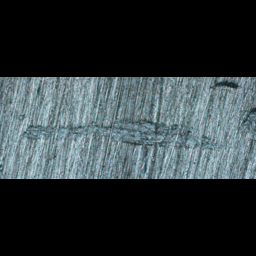d: (20, 118, 222, 153)
